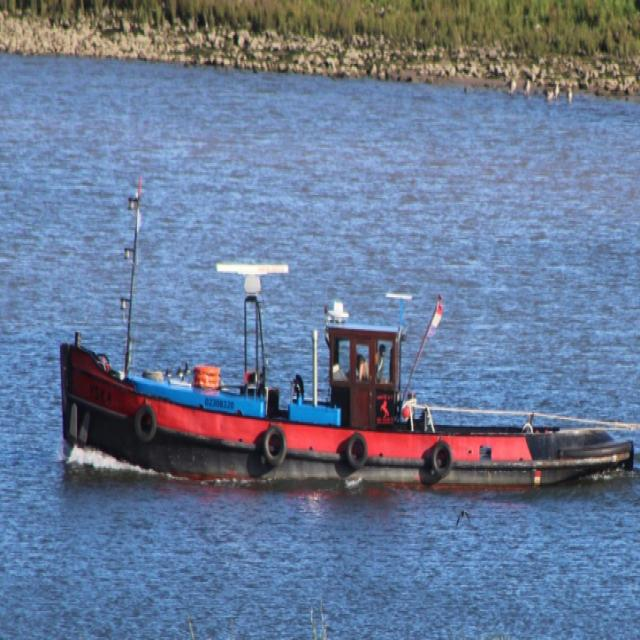tugboat: (58, 256, 639, 518)
